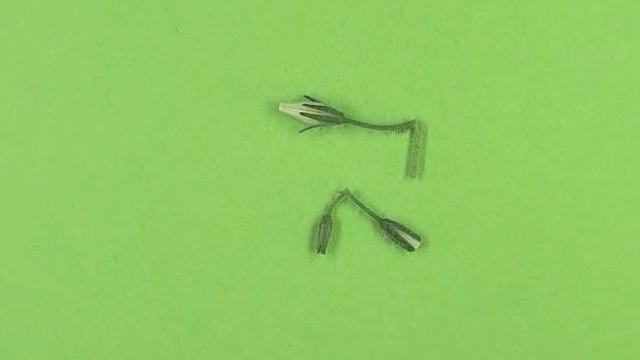Flower Bud: (278, 94, 345, 129), (378, 219, 422, 253), (316, 216, 333, 255)
